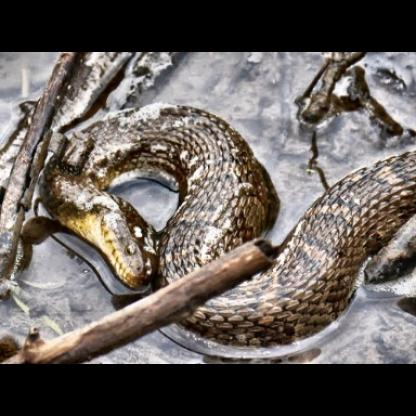Snake: (2, 86, 416, 362)
